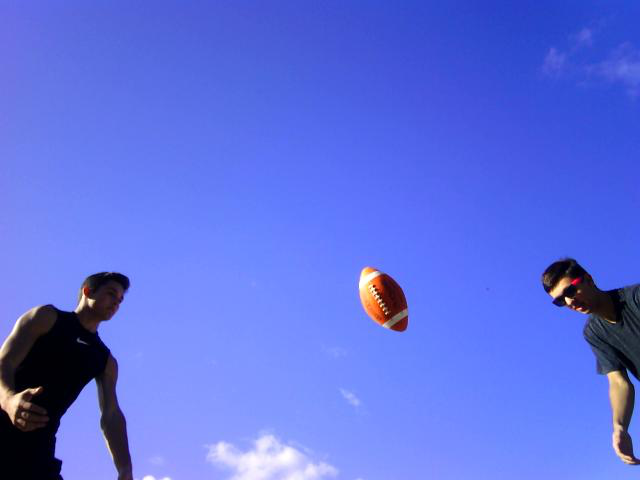football: (355, 263, 419, 338)
